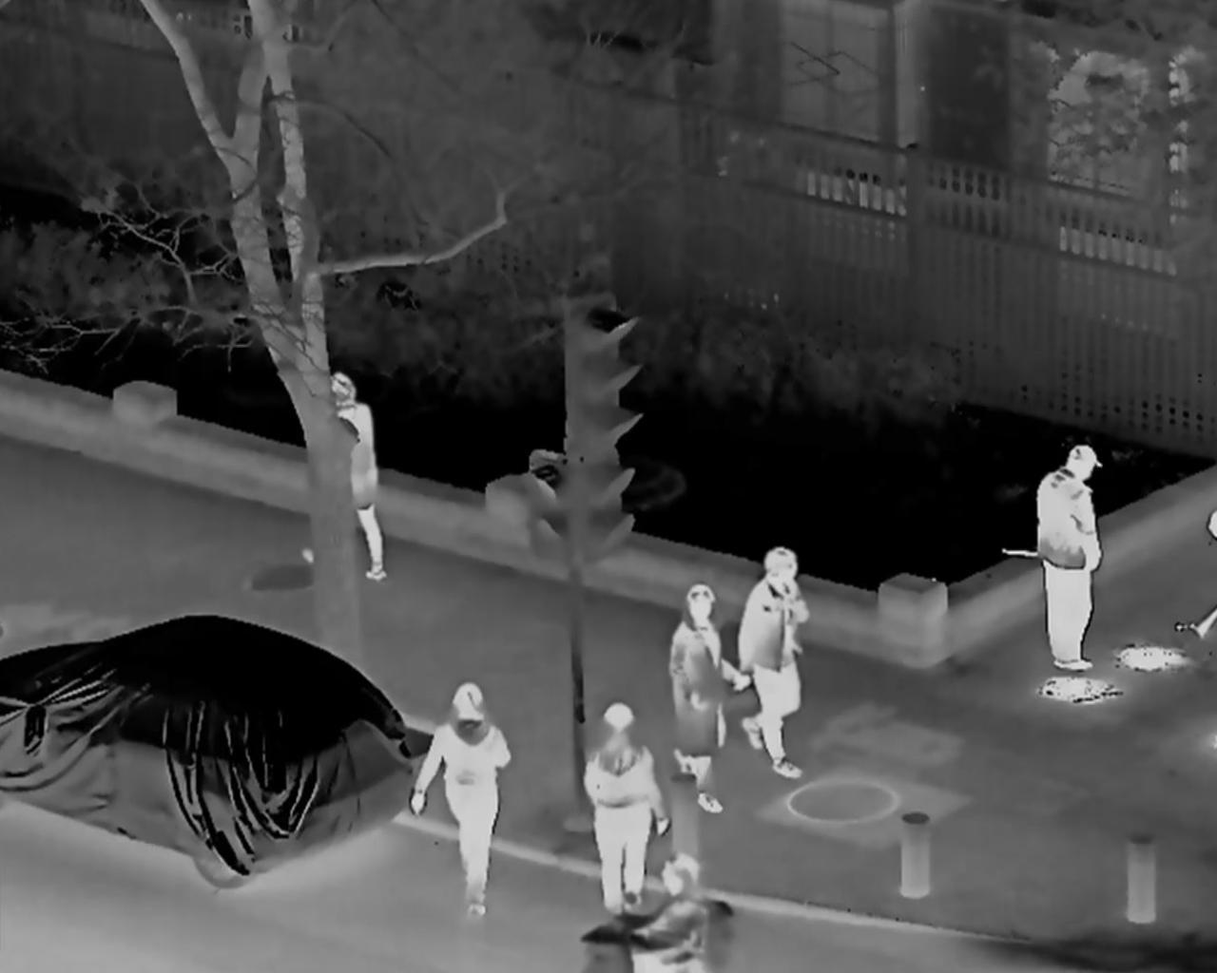person: (409, 680, 516, 921), (303, 375, 388, 593), (667, 585, 743, 815), (586, 700, 666, 910), (1033, 442, 1103, 673), (740, 543, 806, 780), (619, 854, 704, 973)
